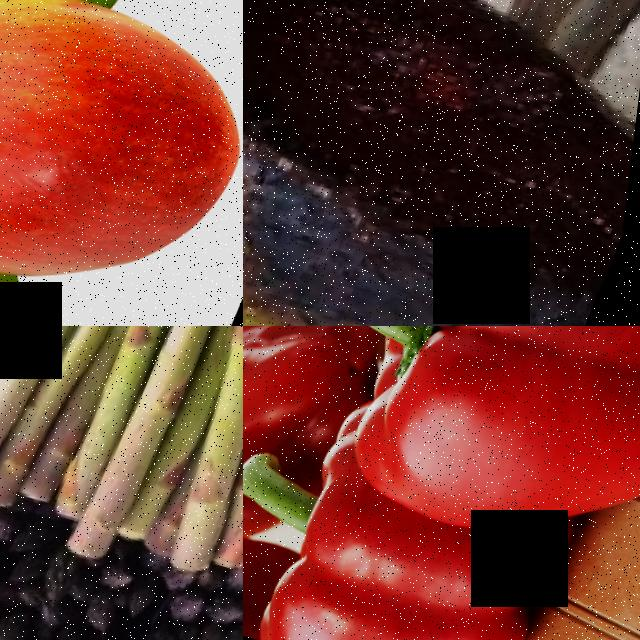apple: (0, 0, 243, 326)
asparagus: (67, 326, 243, 581), (0, 326, 222, 524), (52, 326, 243, 533), (126, 326, 243, 608), (0, 326, 165, 517), (178, 326, 243, 577)
avocado: (243, 0, 640, 326)
bell pepper: (334, 326, 640, 572), (259, 462, 585, 640), (243, 326, 403, 486), (243, 503, 316, 640)
